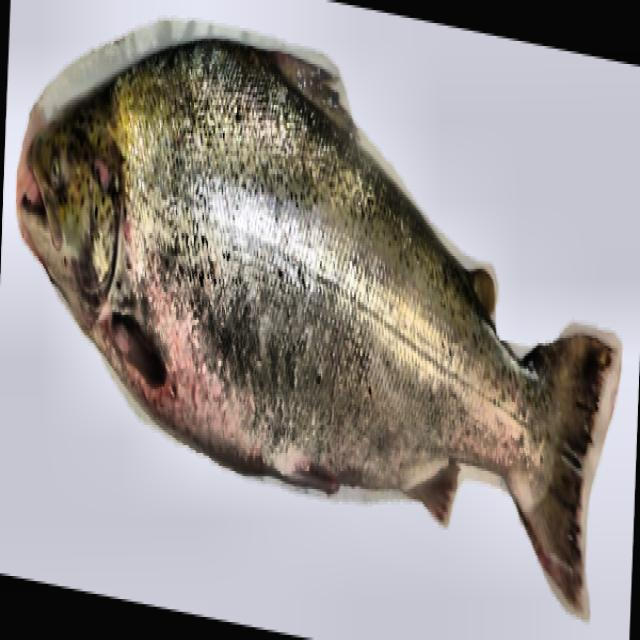mild_red: (92, 38, 563, 517)
